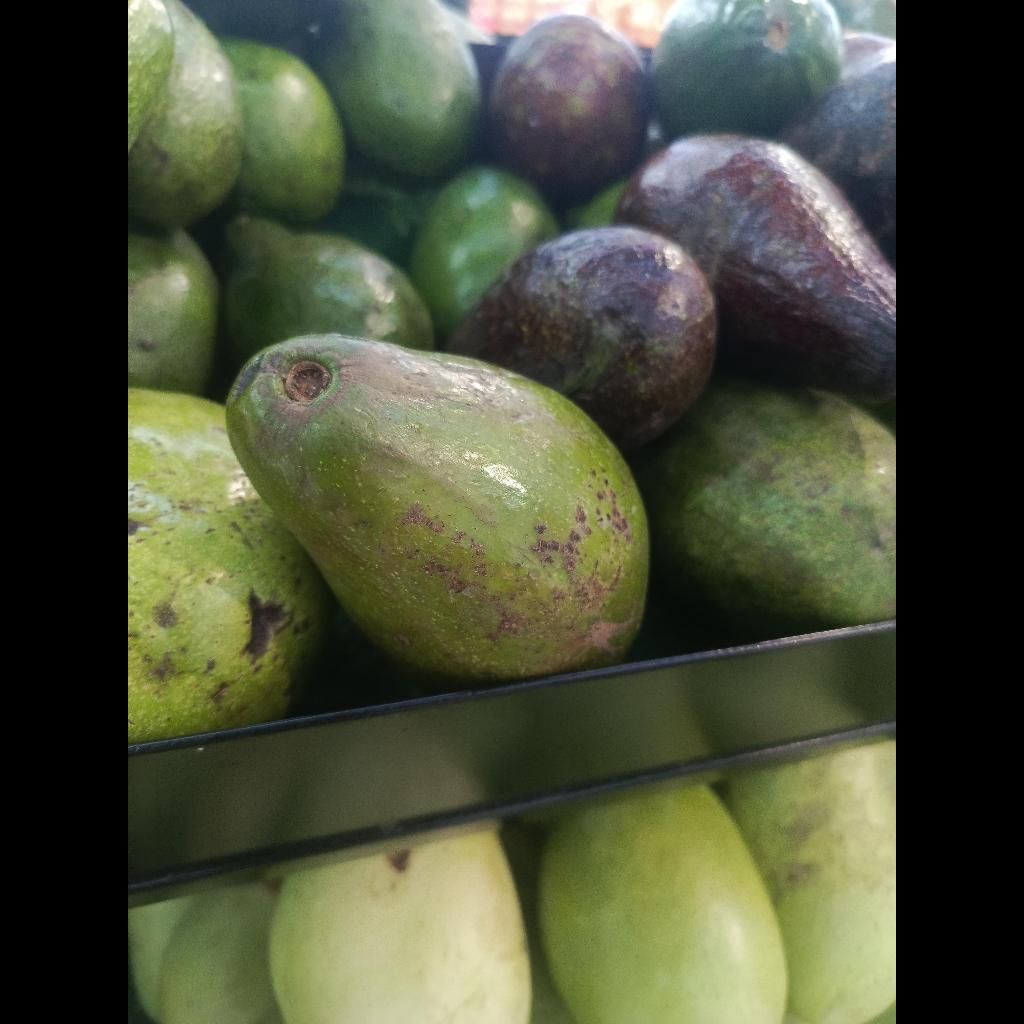antracnosis_fruto: (628, 376, 896, 642), (448, 226, 716, 451)
pudricion_peduncular: (227, 335, 649, 691)
rona: (128, 389, 333, 742)
